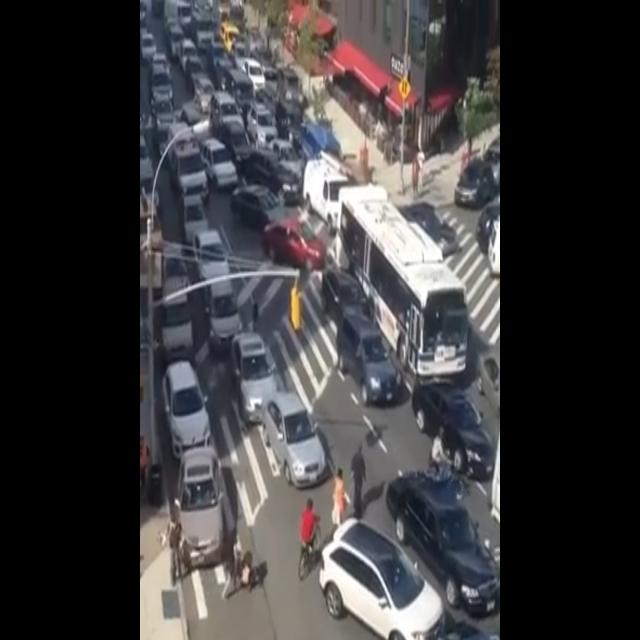Ambulance: (162, 113, 212, 203)
